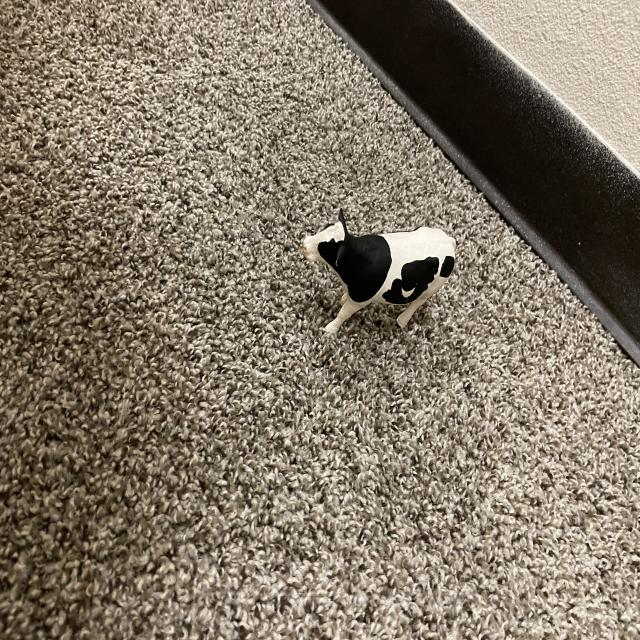cow: (299, 198, 464, 336)
